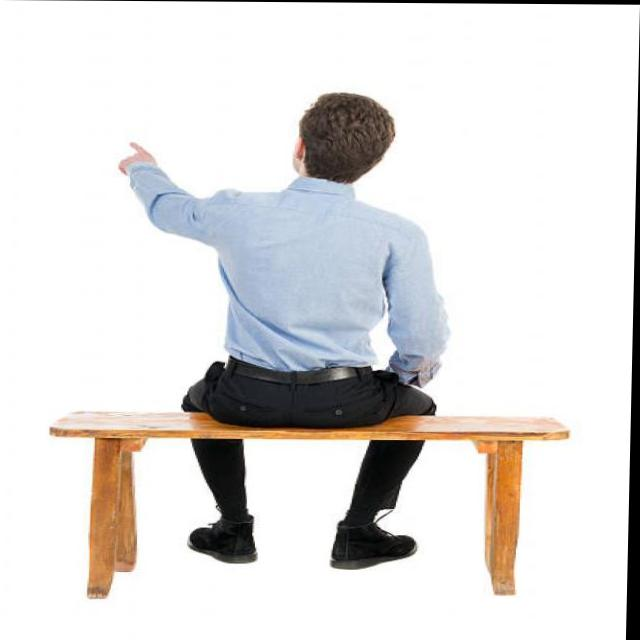no helmet: (277, 76, 412, 205)
